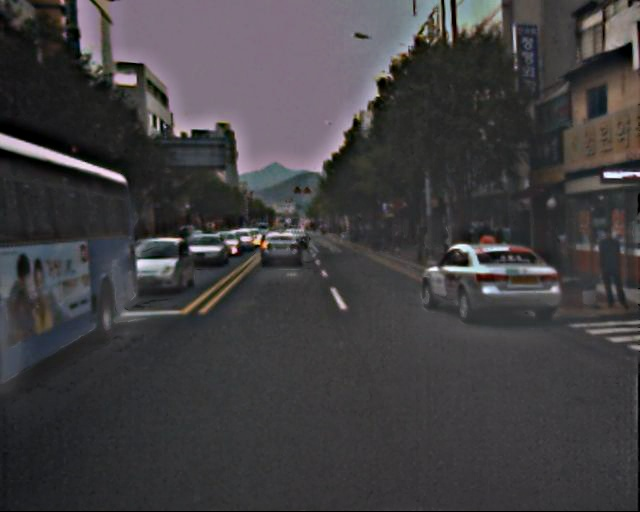person: (589, 227, 628, 310)
